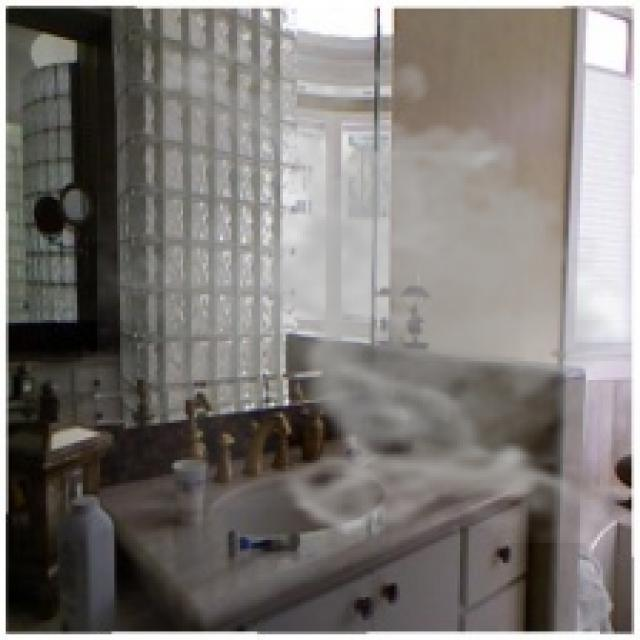Smoke: (97, 28, 637, 543)
